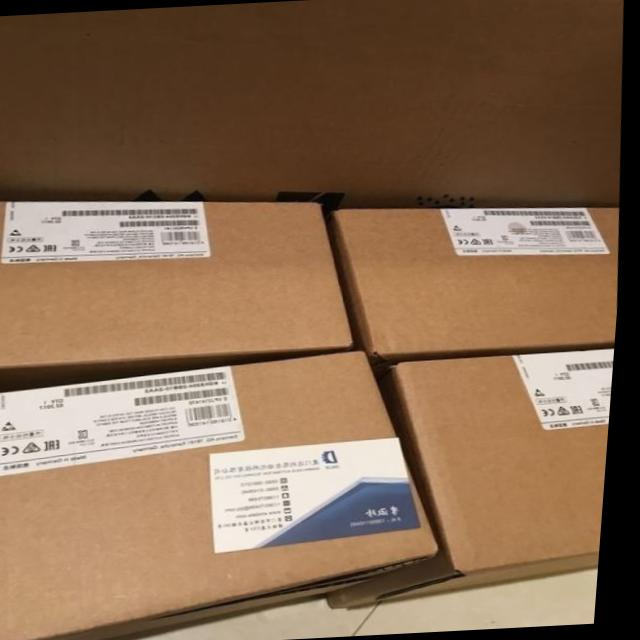box: (0, 349, 449, 640), (337, 348, 619, 610), (0, 200, 368, 392), (331, 207, 622, 369)
